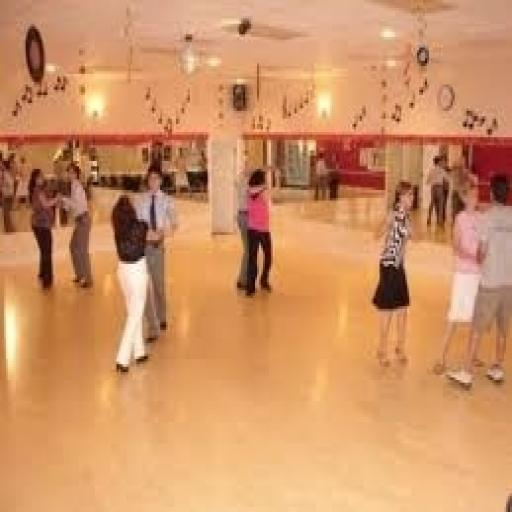dancing: (368, 177, 419, 369), (239, 164, 277, 300)
